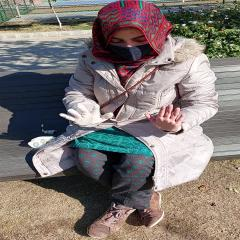gloved: (61, 104, 116, 128)
not-gloved: (145, 106, 185, 132)
